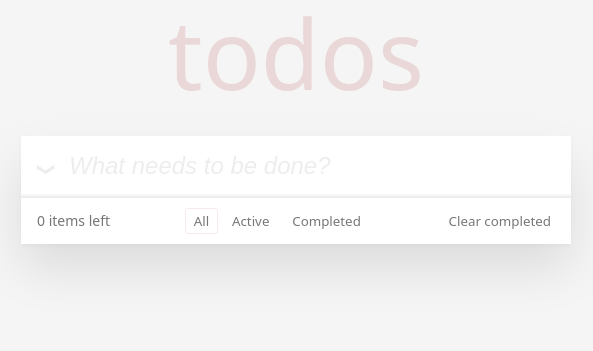
Test: TodoApp Integration › persists todos in localStorage
This screenshot has width=593, height=351.
In the field with placeholder "What needs to be done?": {"x": 296, "y": 166} [21, 136, 571, 196], type "Persistent todo"
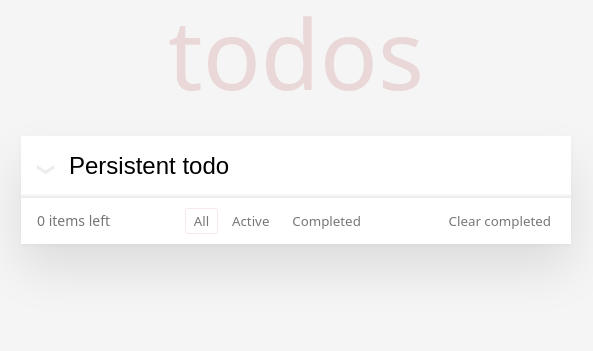
Submit the form from the field with placeholder "What needs to be done?", box [21, 136, 571, 196]
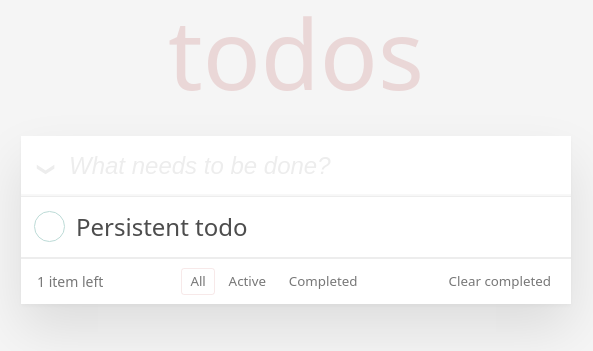
Now the text "Persistent todo" is shown, box [76, 210, 248, 243]
